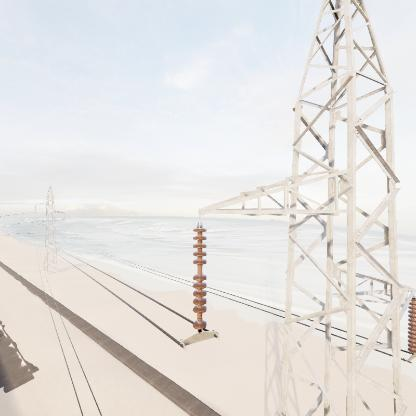insulator: (190, 222, 212, 333), (405, 295, 416, 361)
